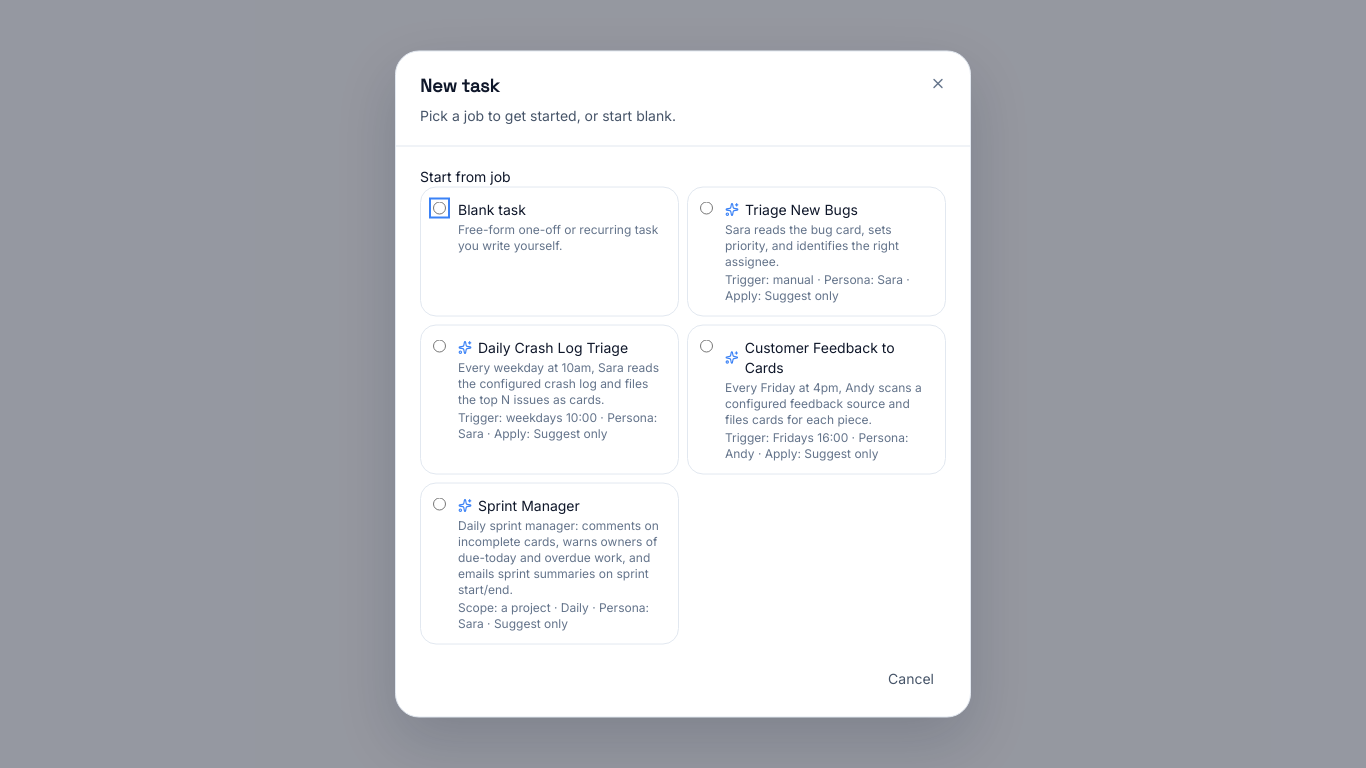
Test: NewTaskDialog › blocks submit when no persona is selected
This screenshot has width=1366, height=768.
Click the radio button with test id "job-picker-blank".
click(440, 208)  # box x1=433 y1=202 x2=446 y2=214
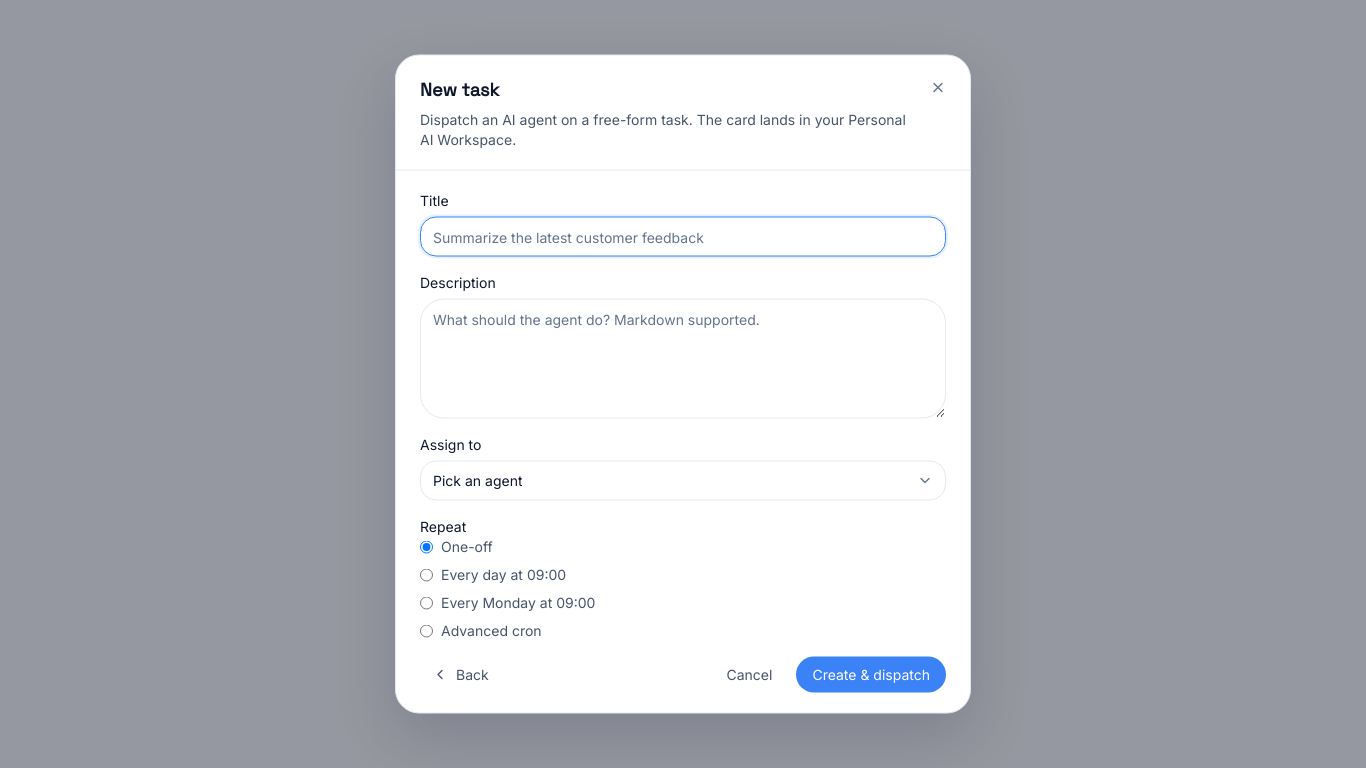
Type "Find feature flags to clean up" into the field labelled "Title".
click(683, 236); type("Find feature flags to clean up")  # box x1=420 y1=216 x2=946 y2=256
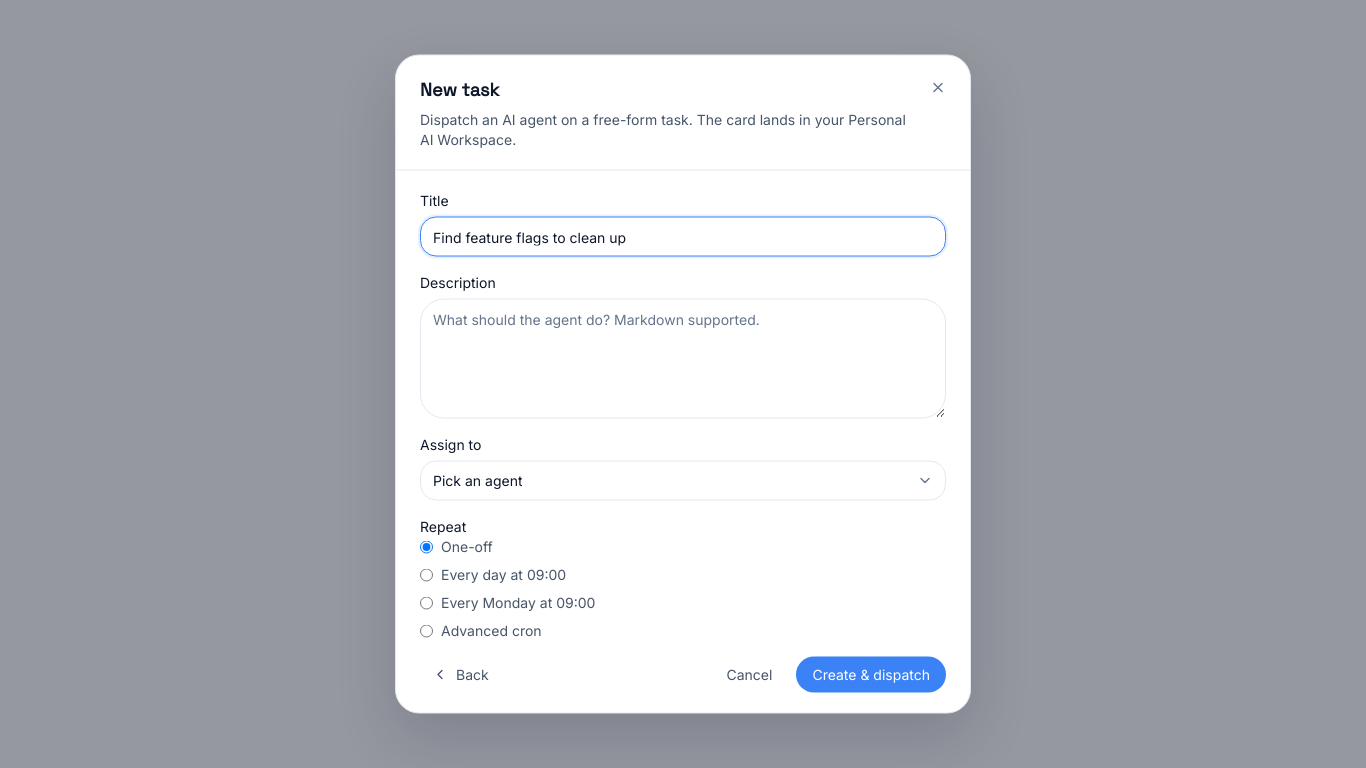
Click the button "Create & dispatch".
click(871, 674)  # box x1=796 y1=656 x2=946 y2=692
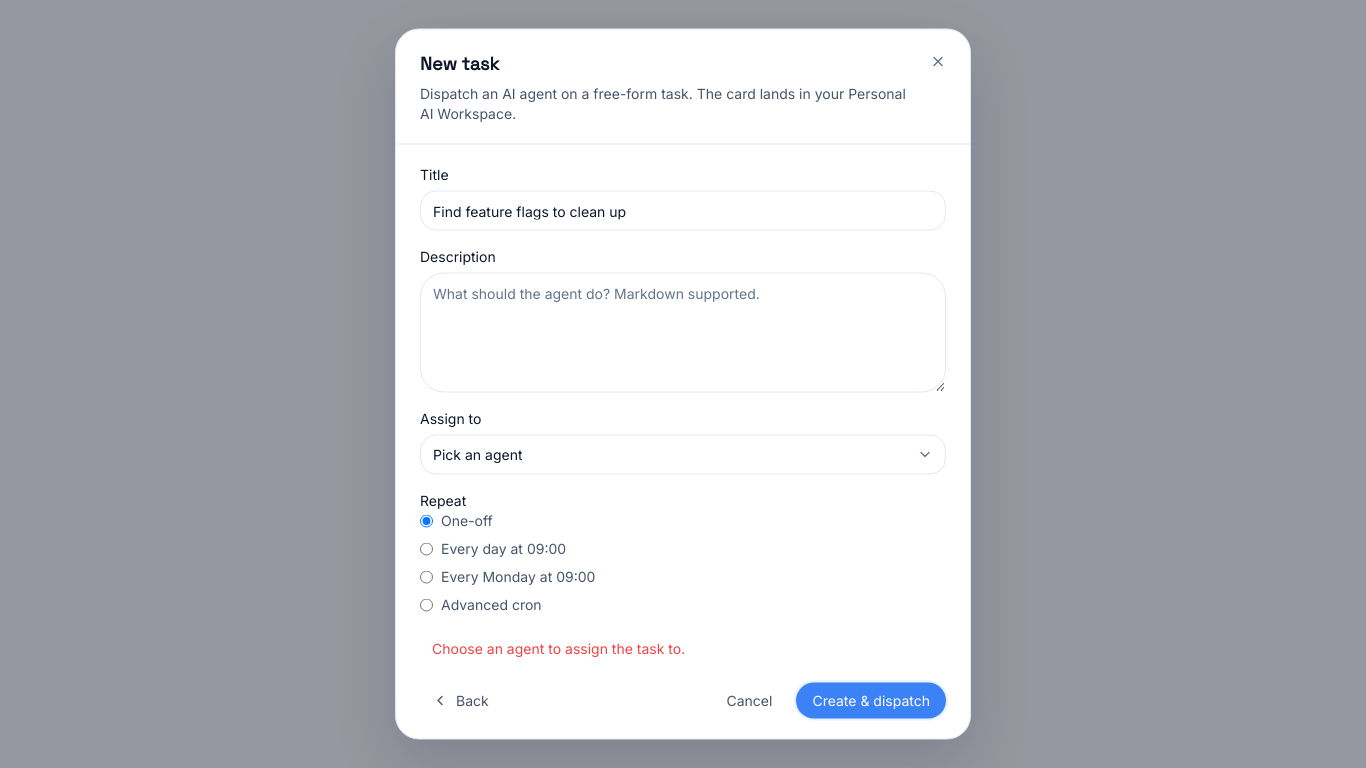
Now the text "Choose an agent to assign the task to." is shown, box x1=432 y1=640 x2=685 y2=656
